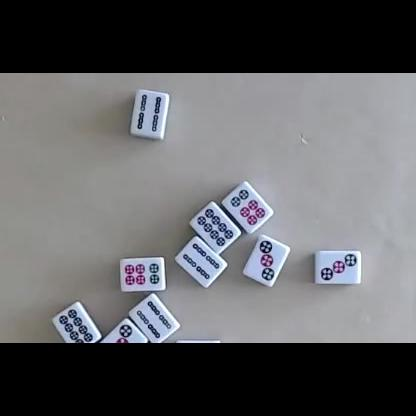3p: (320, 253, 357, 280), (259, 240, 275, 281), (112, 324, 131, 343)
4s: (182, 244, 220, 280), (137, 301, 172, 339), (137, 93, 162, 132)
6p: (231, 189, 266, 226), (124, 263, 159, 285)
8p: (196, 209, 233, 247), (58, 309, 94, 343)
